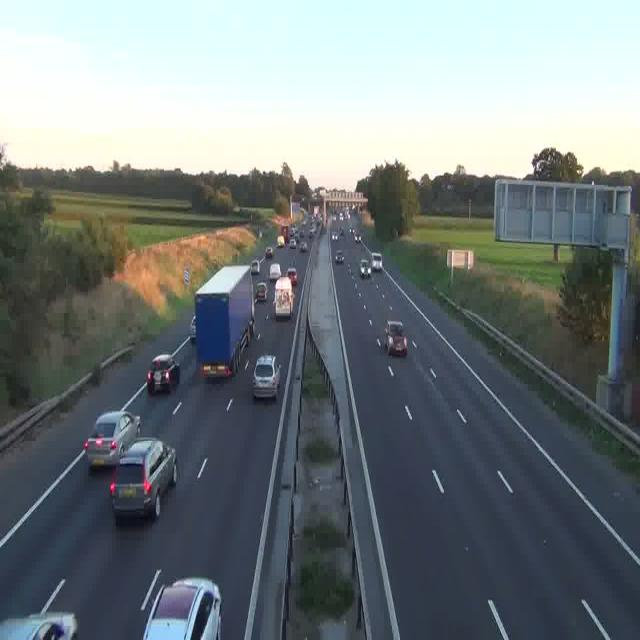car: (110, 437, 178, 522), (144, 578, 222, 639), (84, 410, 140, 469), (0, 611, 77, 640), (146, 354, 181, 394), (253, 354, 281, 399), (384, 320, 408, 356), (370, 252, 382, 273), (255, 282, 267, 301), (359, 258, 371, 277), (268, 262, 280, 281), (286, 268, 298, 286), (188, 320, 196, 341), (250, 260, 260, 274), (335, 250, 344, 264), (300, 241, 308, 252), (354, 232, 362, 243), (331, 230, 338, 241)
truck: (193, 265, 254, 378), (274, 274, 294, 317), (278, 228, 289, 248)
